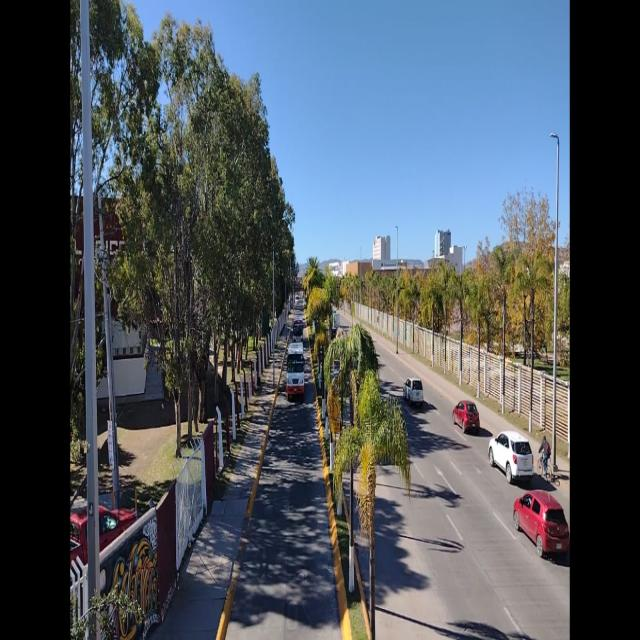Auto: (514, 483, 570, 567), (484, 428, 534, 487), (450, 394, 483, 439), (403, 372, 425, 407)
Autobus: (286, 339, 306, 403)
